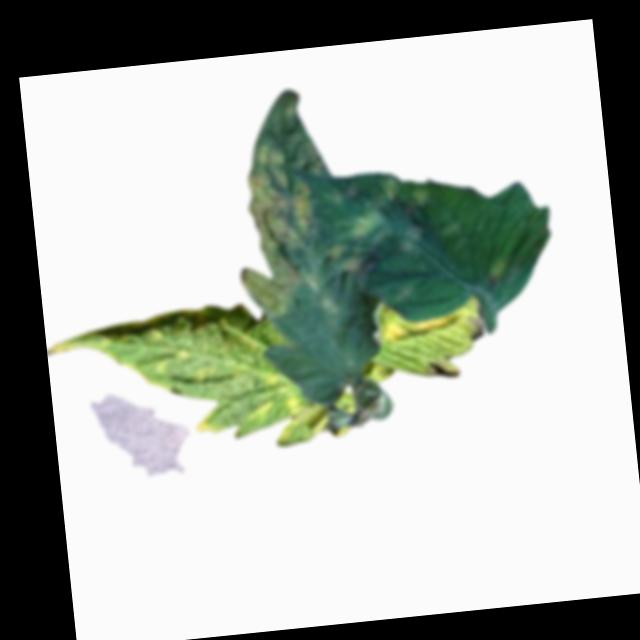Leaf_Mold: (45, 295, 317, 468), (222, 85, 341, 323), (320, 167, 442, 296), (380, 298, 472, 344)
